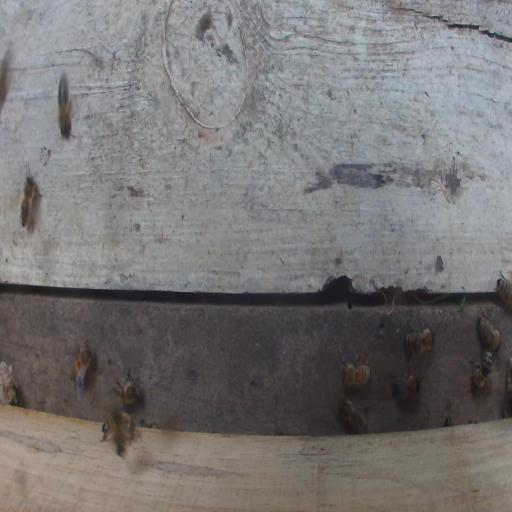bee: (100, 405, 137, 451), (336, 392, 371, 435), (108, 367, 141, 408), (475, 306, 504, 352), (68, 342, 95, 388), (57, 71, 74, 144), (467, 345, 493, 391), (16, 174, 36, 230), (406, 324, 437, 360), (340, 360, 372, 391), (391, 372, 423, 403), (493, 266, 511, 308)
